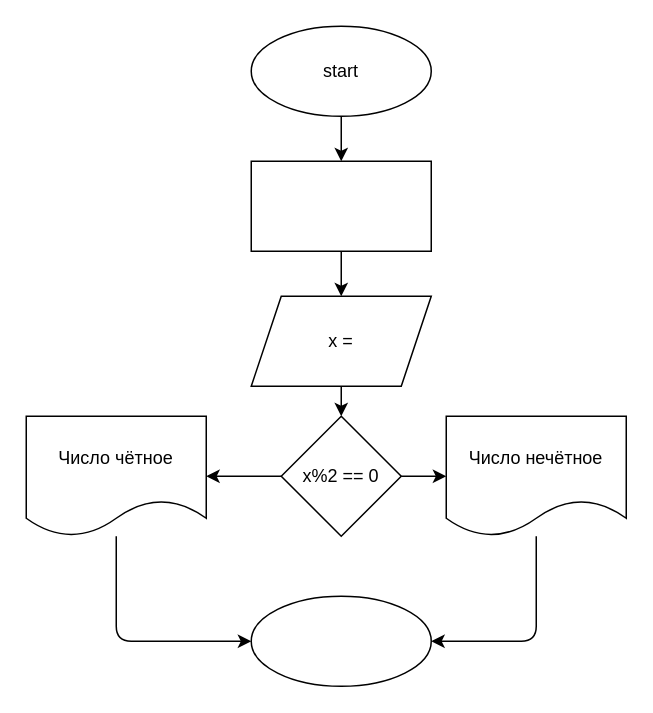
This 653x713 diagram has some shape labels left out. Here are the shapes that lost their labels. From the top down, the centre of each, then its label:
At point 340,205: "int x".
At point 340,640: "end".
